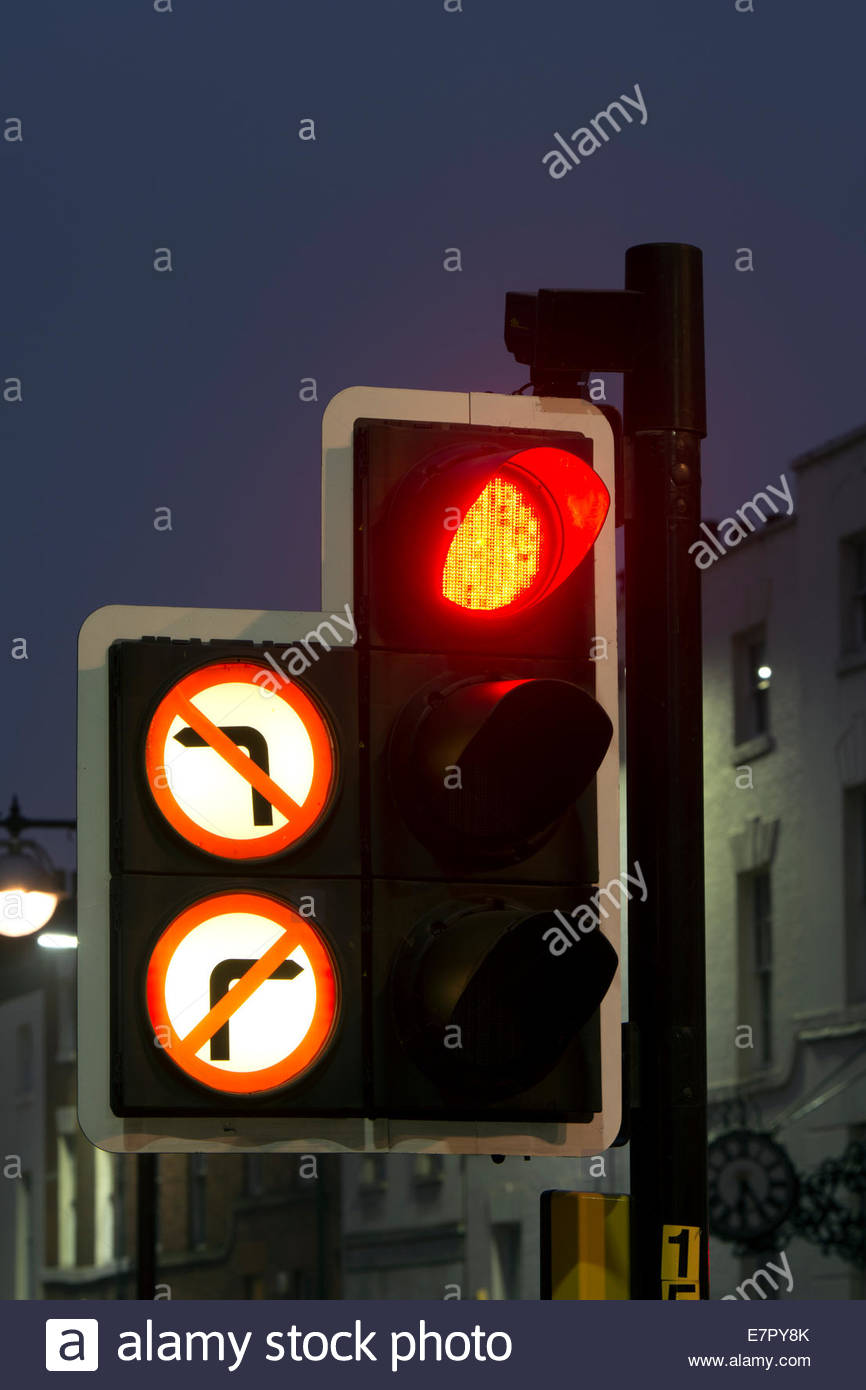No_left_turn: (144, 660, 339, 861)
No_right_turn: (147, 890, 342, 1095)
